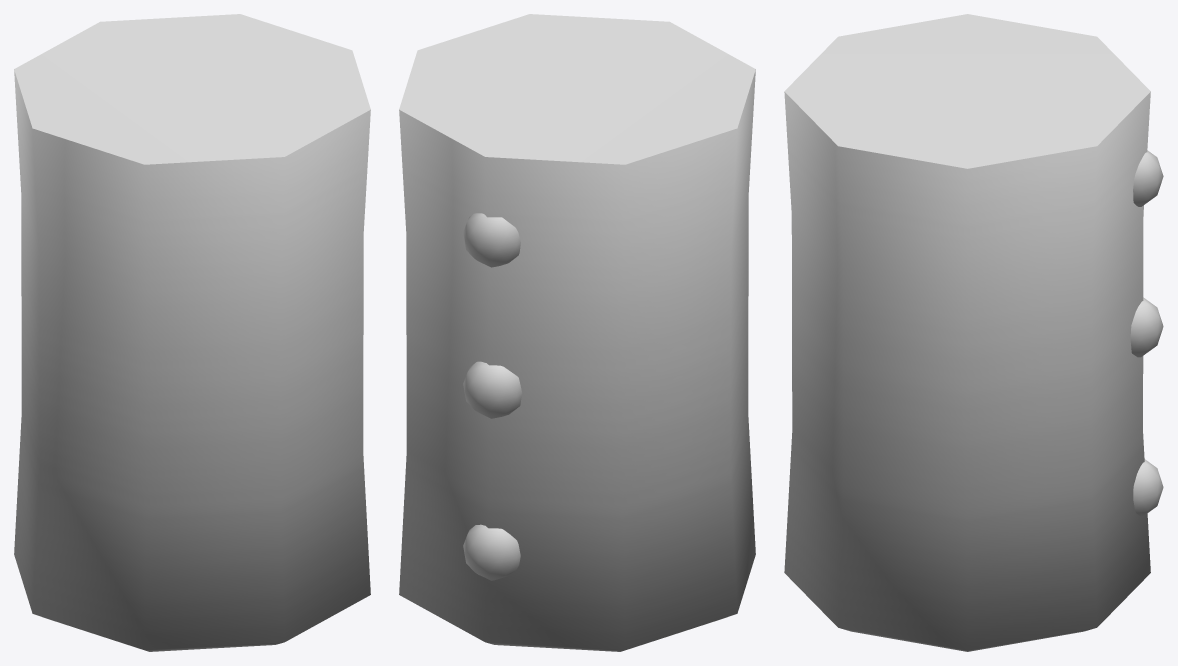
The model's file is stone_grip_062.glb.
3 views of the same model, side by side, from view 1: azimuth 30°, elevation 25°; view 2: azimuth 150°, elevation 25°; view 3: azimuth 270°, elevation 25° (orthographic).
Visible parts, largest first — view 1: stone_grip.062; view 2: stone_grip.062; view 3: stone_grip.062.
Boxes of the visible parts, x1=… form: stone_grip.062: x1=14, y1=14, x2=370, y2=651; stone_grip.062: x1=399, y1=14, x2=755, y2=651; stone_grip.062: x1=784, y1=14, x2=1163, y2=651.
Bounding box in the file's own units: 2.07 × 3.05 × 2.14.
Materials: 1 (1 with a texture image).
